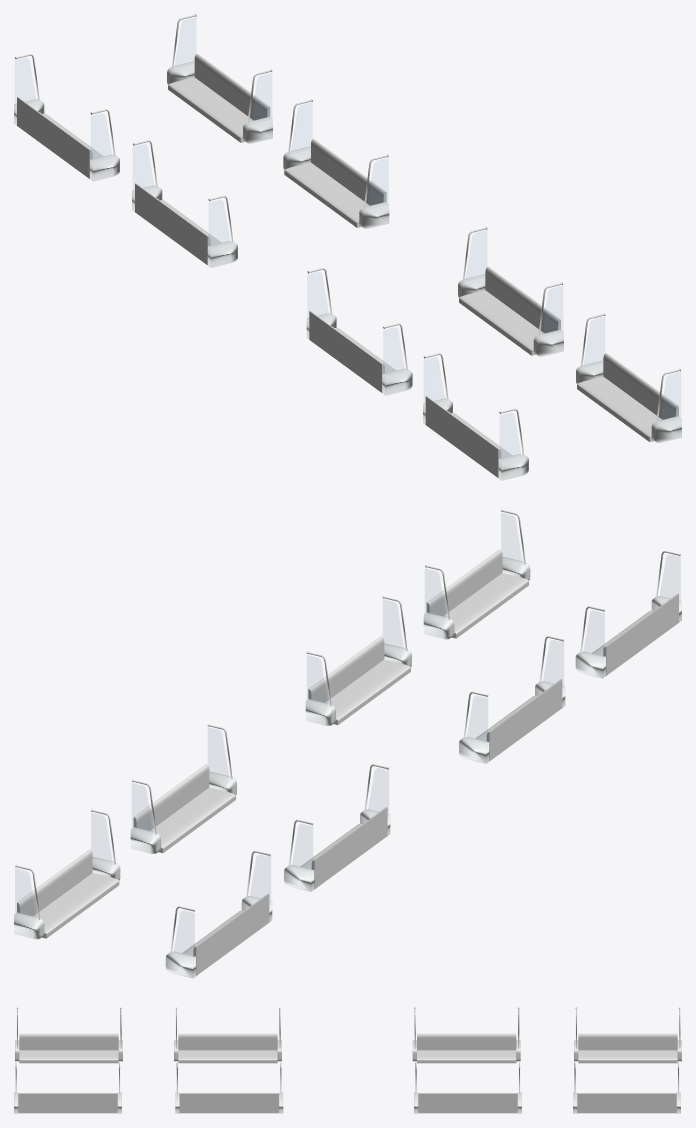
Rendered from ChairSetLRT.fbx.
The picture shows the model from 3 angles, top to bottom: view 1: azimuth 30°, elevation 25°; view 2: azimuth 150°, elevation 25°; view 3: azimuth 270°, elevation 25°; orthographic projection. The views are drawn at different scales.
Visible parts, largest first — view 1: Chair Set; view 2: Chair Set; view 3: Chair Set.
Boxes of the visible parts, x1,y1,x2,y2 form: Chair Set: (14,14,681,480); Chair Set: (14,509,681,978); Chair Set: (14,1007,681,1113).
Size of the model in its own units: 1219 by 439 by 5733.
Materials: 64 (16 with a texture image).
